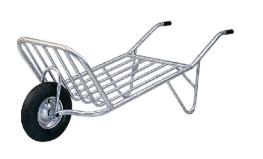BROUETTE: (0, 17, 244, 159)
